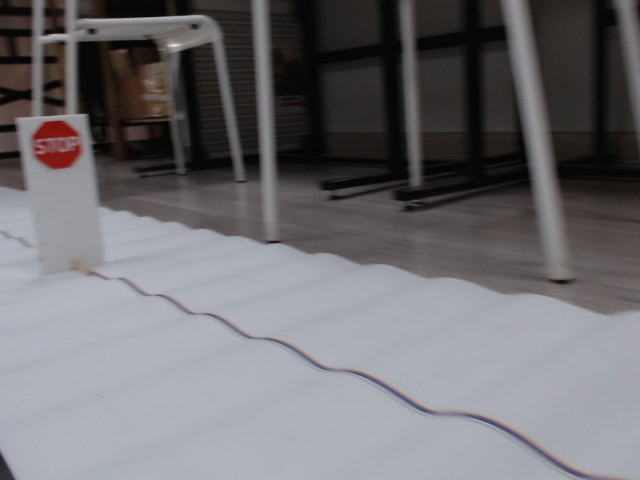Stop: (32, 121, 83, 169)
